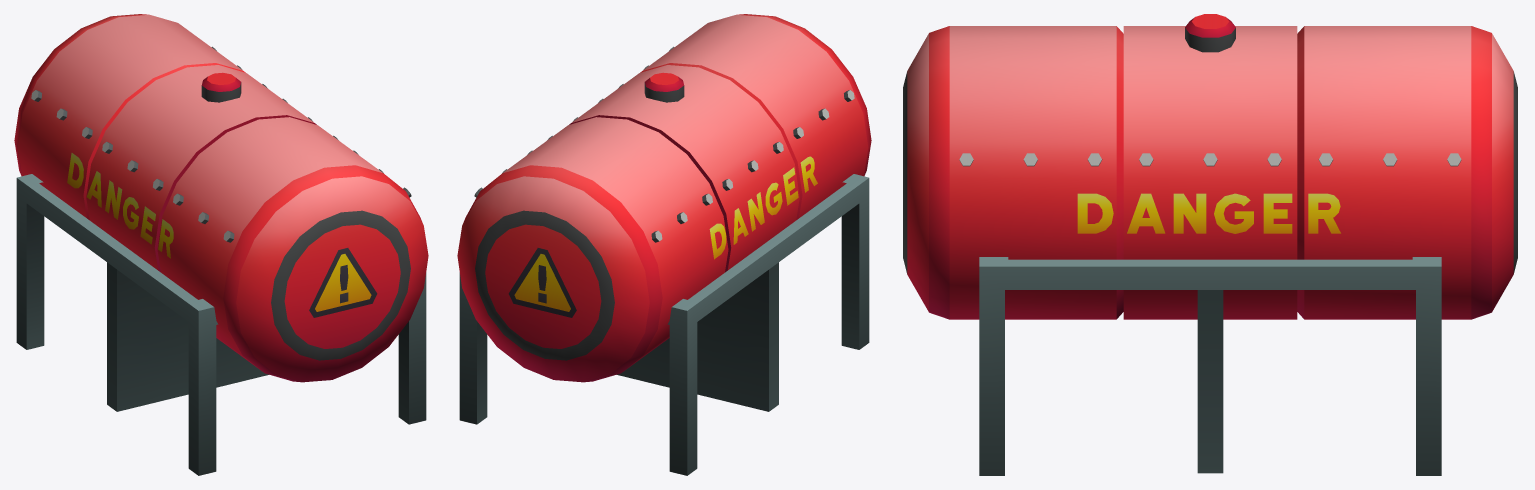
File: Tank_1A.fbx
3 renders of one model, left to right at view 1: azimuth 30°, elevation 25°; view 2: azimuth 150°, elevation 25°; view 3: azimuth 270°, elevation 25°, orthographic. The views are drawn at different scales.
Visible parts, largest first — view 1: Tank_1A; view 2: Tank_1A; view 3: Tank_1A.
Part boxes in pixels (x1,y1,x2,y2): Tank_1A: (14,14,428,475); Tank_1A: (457,14,871,475); Tank_1A: (903,14,1517,475).
Size of the model in its own units: 2.6 by 3.3 by 4.84.
